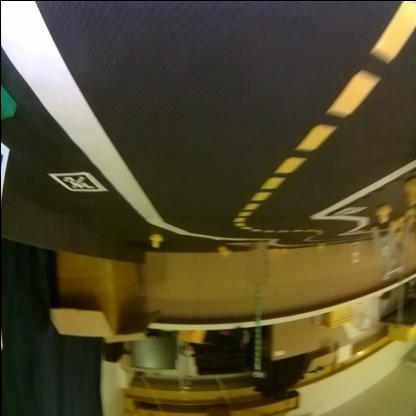Duckie: (404, 180, 415, 205), (376, 207, 388, 221), (152, 233, 162, 248), (220, 247, 228, 256)
QR code: (49, 172, 104, 192), (332, 206, 362, 216)
